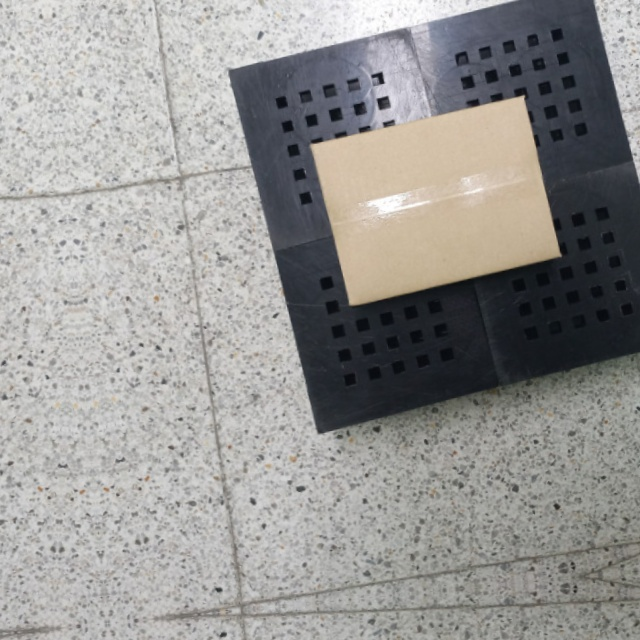box: (307, 88, 562, 313)
pallet: (230, 2, 640, 456)
